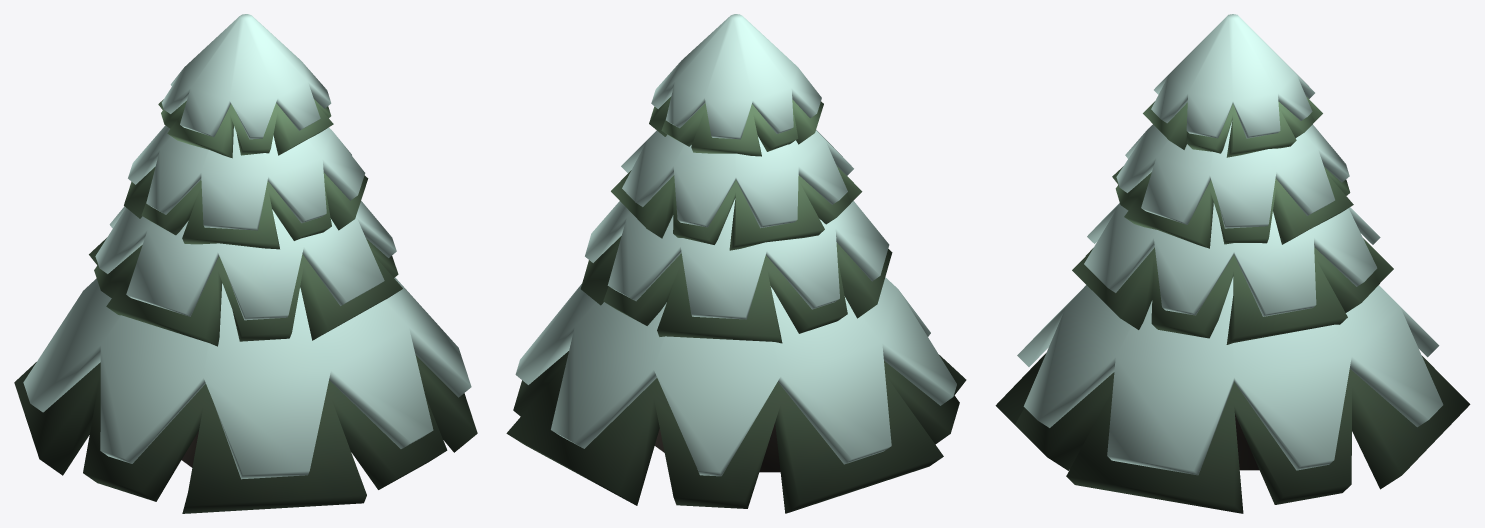
Rendered from tree2.glb.
3 renders of one model, left to right at view 1: azimuth 30°, elevation 25°; view 2: azimuth 150°, elevation 25°; view 3: azimuth 270°, elevation 25°, orthographic.
Parts seen in each view (by area): view 1: Cylinder.017; view 2: Cylinder.017; view 3: Cylinder.017.
Boxes of the visible parts, <box> form: Cylinder.017: <box>14,14,477,513</box>; Cylinder.017: <box>506,14,966,513</box>; Cylinder.017: <box>995,14,1470,513</box>.
Size of the model in its own units: 4.05 by 3.95 by 4.05.
1 material, 1 textured.
